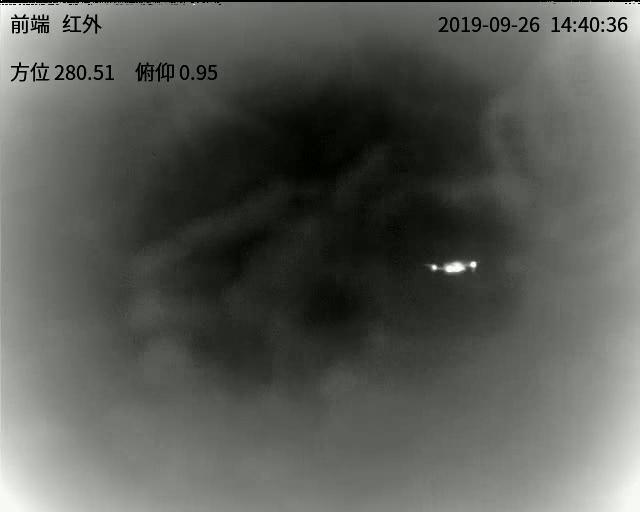DRONE: (430, 258, 479, 277)
